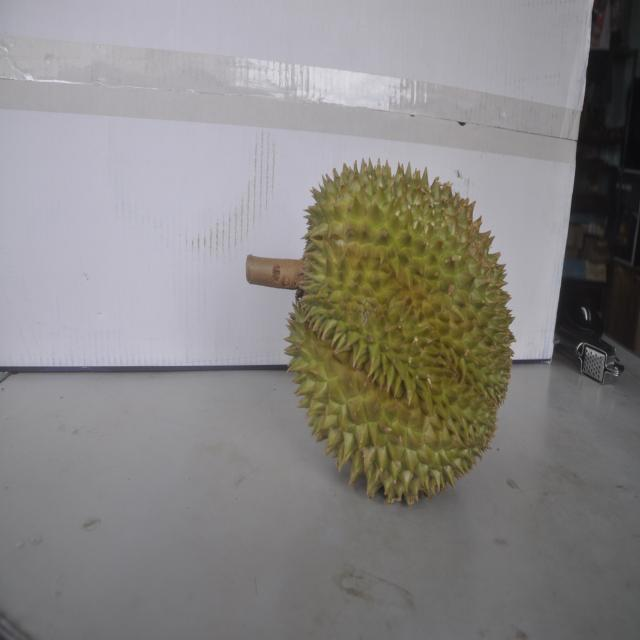mature: (293, 155, 512, 502)
